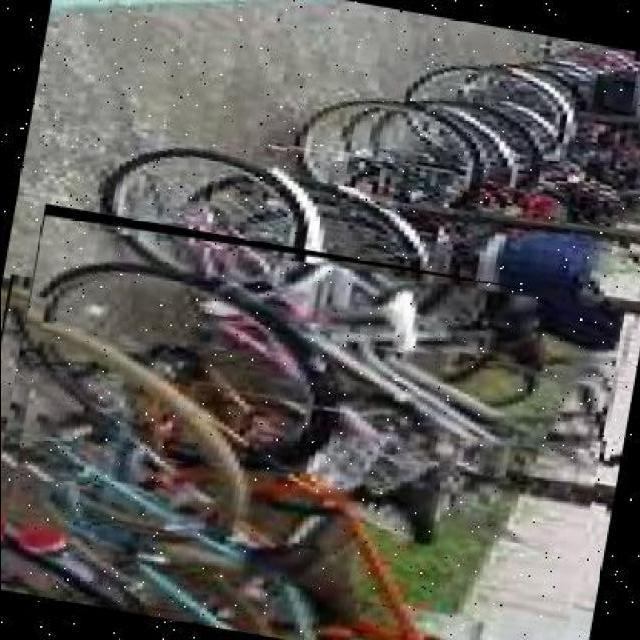bicycle: (3, 201, 627, 639), (2, 272, 464, 640)
